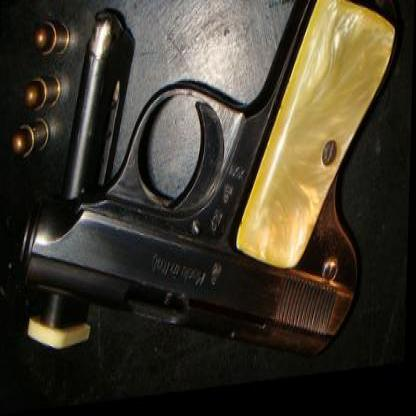pistol: (21, 0, 406, 399)
